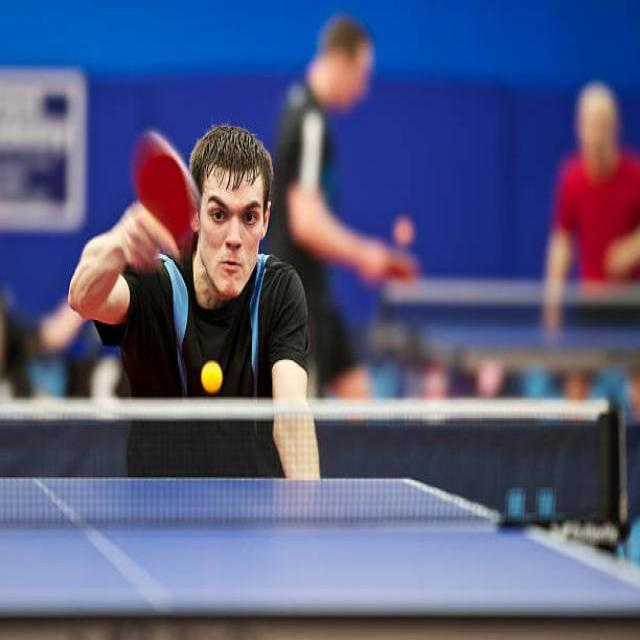oball: (202, 358, 222, 390), (394, 217, 414, 245)
